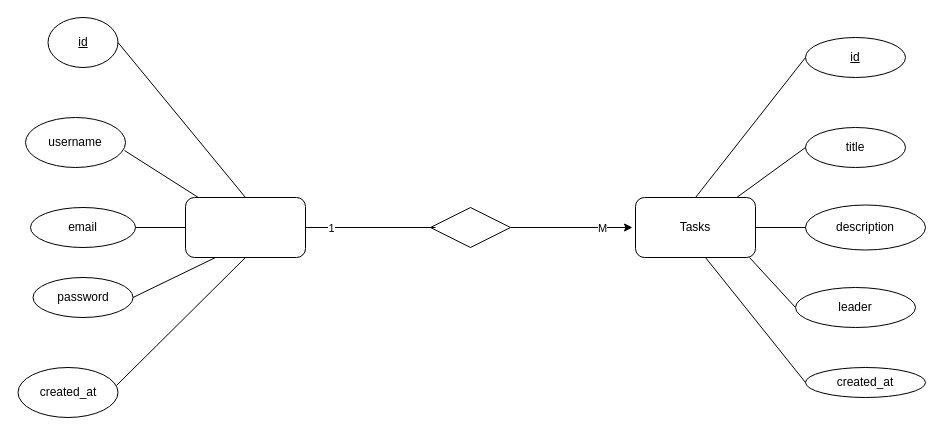
The diagram is 943 pixels wide and 435 high, and some of its shapes have lost their labels. The centre of each missing label's shape, as x and y in pixels:
"has" belongs at point (470, 227).
"Users" belongs at point (245, 227).
